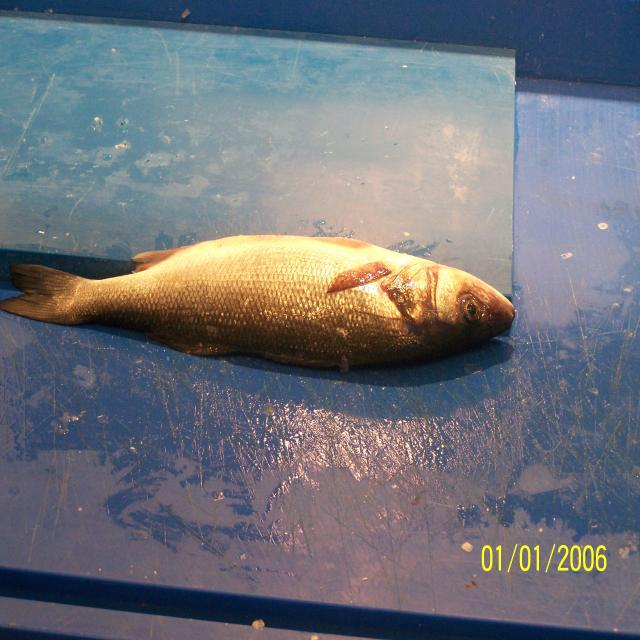Sea-Bass-levrek-: (0, 237, 517, 375)
